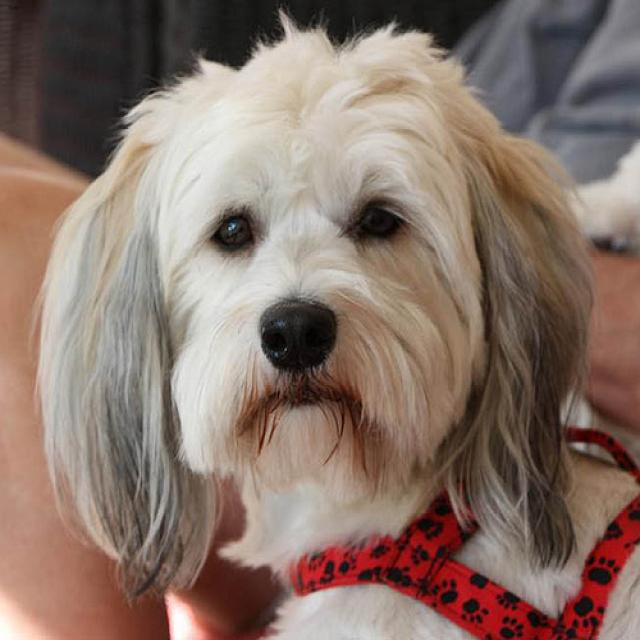dog-havanese: (23, 1, 637, 637)
